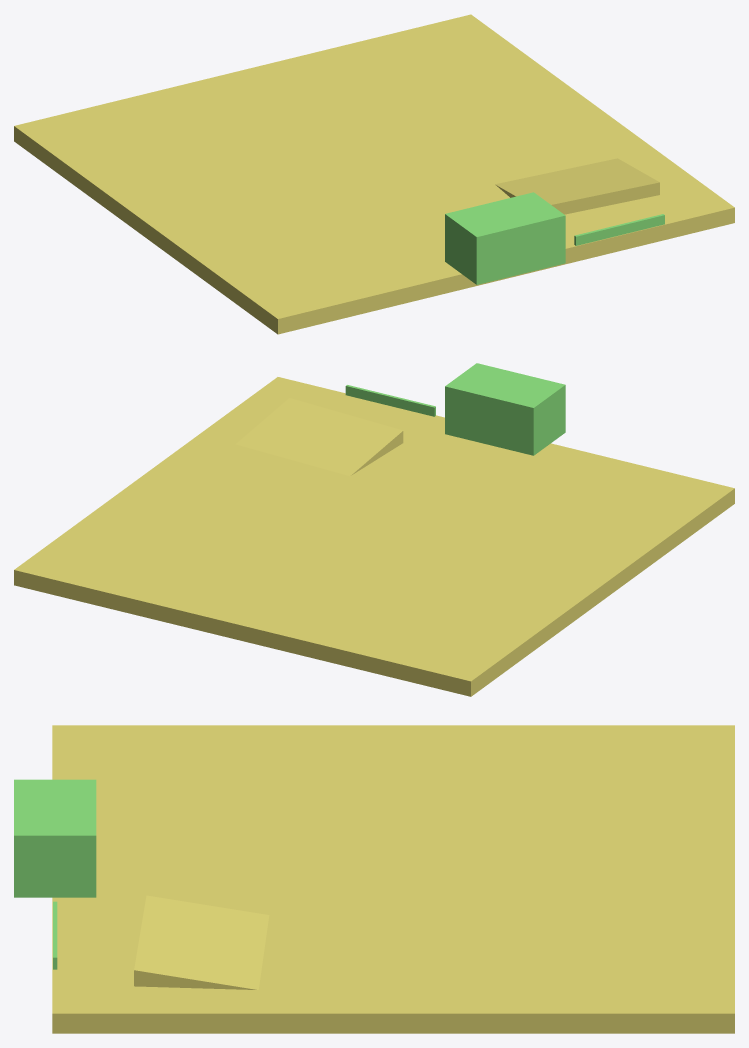
The model's file is prac_stage2.fbx.
3 renders of one model, top to bottom at view 1: azimuth 30°, elevation 25°; view 2: azimuth 150°, elevation 25°; view 3: azimuth 270°, elevation 25°, orthographic. The views are drawn at different scales.
Parts seen in each view (by area): view 1: 立方体; view 2: 立方体; view 3: 立方体.
Boxes of the visible parts, <box> form: 立方体: <box>14,14,734,334</box>; 立方体: <box>14,363,734,696</box>; 立方体: <box>14,725,734,1033</box>.
Bounding box in the file's own units: 1029 × 136 × 1087.
